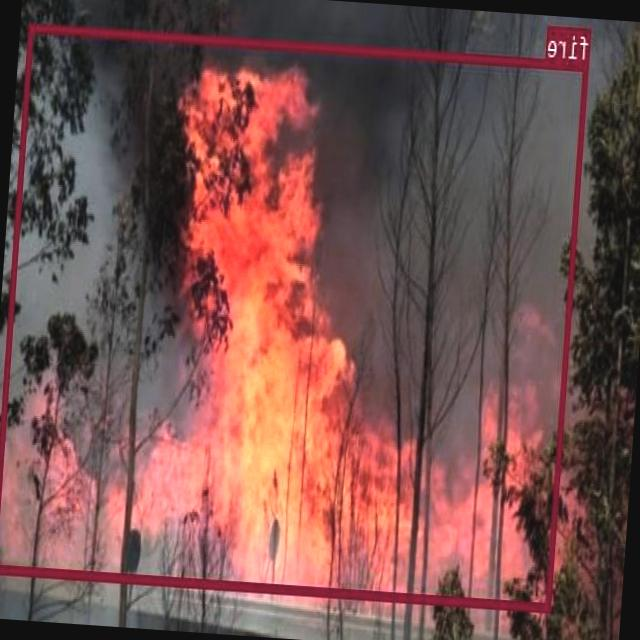fire: (0, 20, 589, 611)
